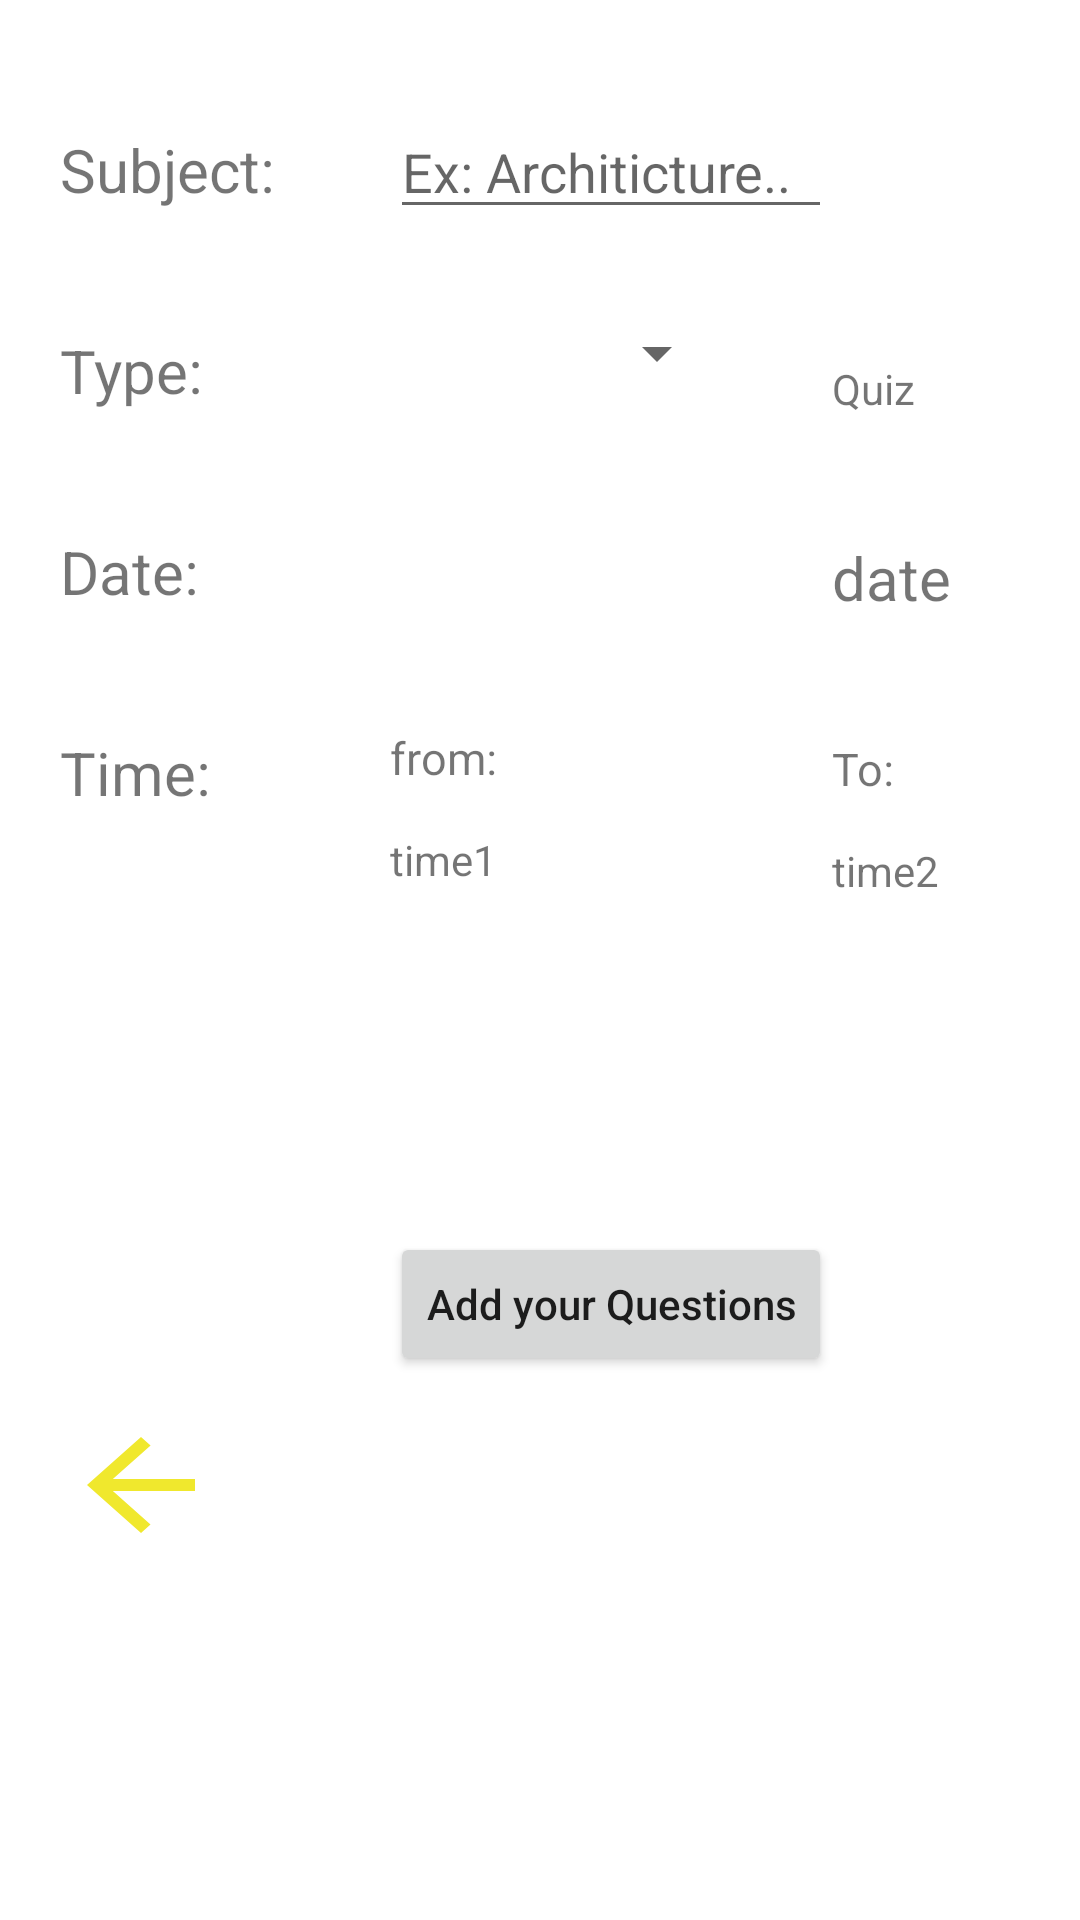

Icons on this 1080w x 1920h Android screen, each with its box as (x1, y1, x2, y2):
back: (87, 1437, 195, 1533)
